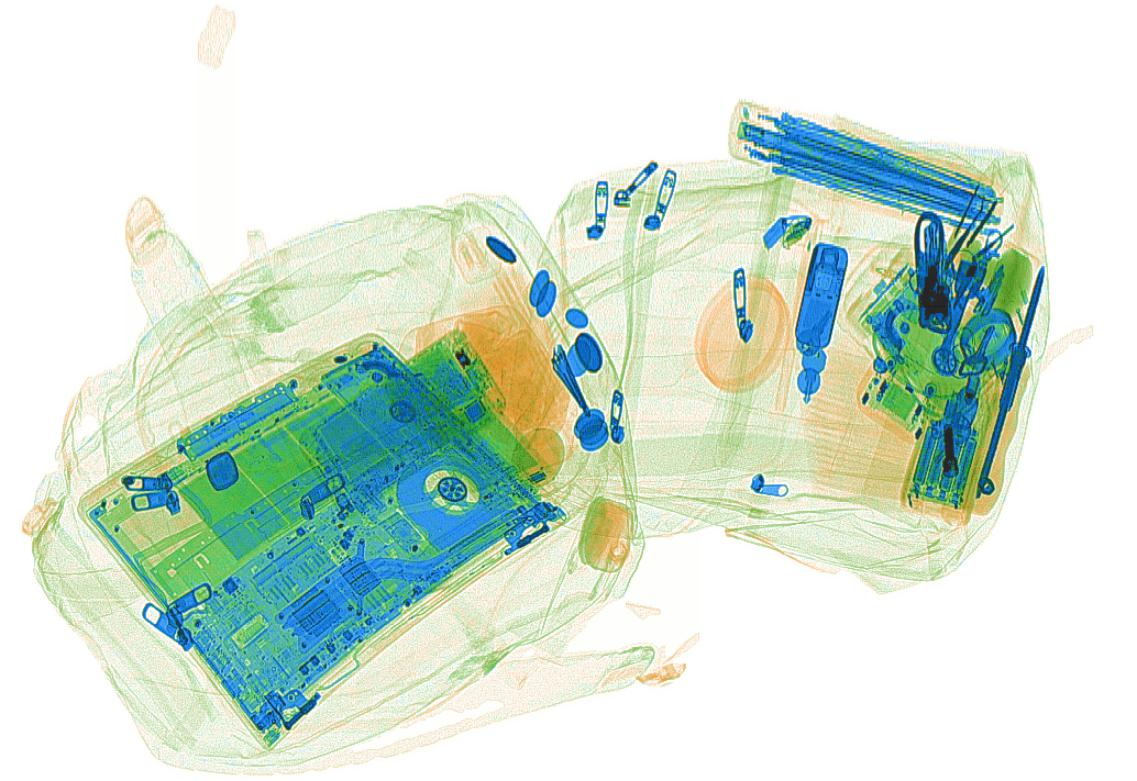USBFlashDisk: (796, 240, 848, 349)
battery: (909, 419, 979, 503)
seal: (960, 236, 1031, 319)
